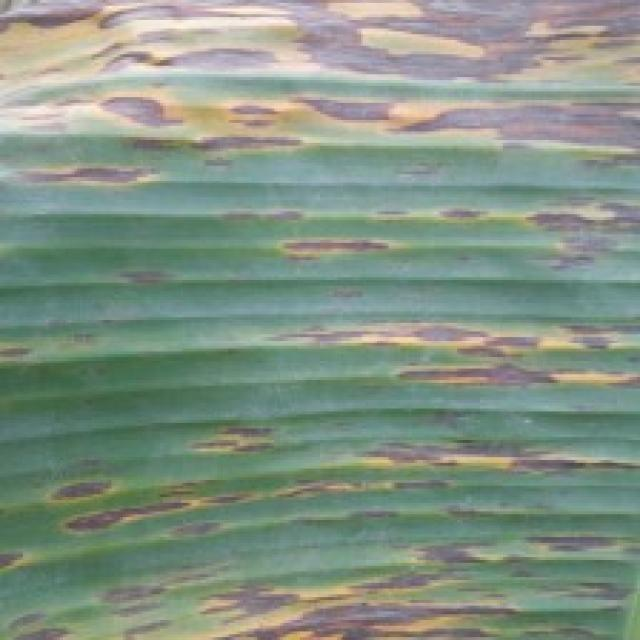Early_leaf_spot: (20, 413, 640, 640), (0, 0, 640, 166), (250, 194, 640, 307), (256, 302, 640, 414), (2, 155, 182, 212), (78, 240, 190, 314), (0, 308, 101, 385)
